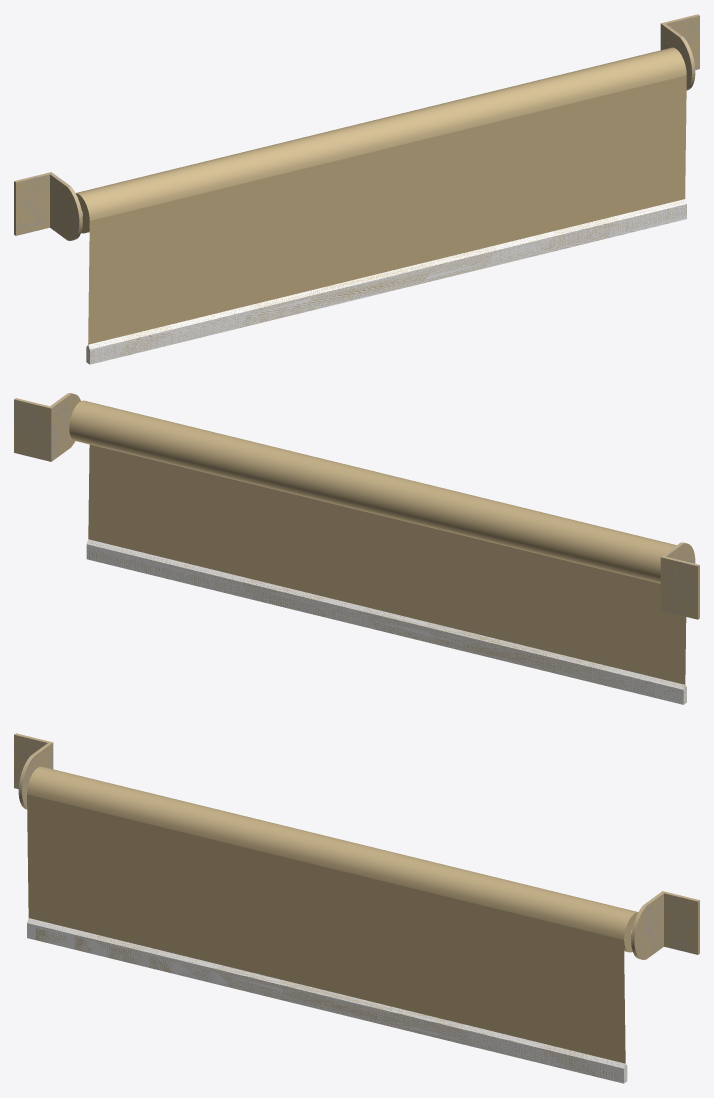
Rendered from roller blinds.dae.
The picture shows the model from 3 angles, top to bottom: view 1: azimuth 30°, elevation 25°; view 2: azimuth 150°, elevation 25°; view 3: azimuth 330°, elevation 25°; orthographic projection.
Visible parts, largest first — view 1: group_0 (×3), group_2, group_1; view 2: group_0 (×3), group_1, group_2; view 3: group_0 (×3), group_1, group_2.
Part boxes in pixels (box(x1,y1,x2,y2)): group_0 (×3): box(75, 47, 686, 364); group_2: box(14, 172, 82, 240); group_1: box(660, 14, 699, 90); group_0 (×3): box(69, 400, 686, 704); group_1: box(14, 393, 80, 461); group_2: box(660, 542, 699, 619); group_0 (×3): box(27, 766, 638, 1083); group_1: box(631, 891, 699, 959); group_2: box(14, 733, 53, 809).
Bounding box in the file's own units: 45.11 × 3.71 × 10.74.
